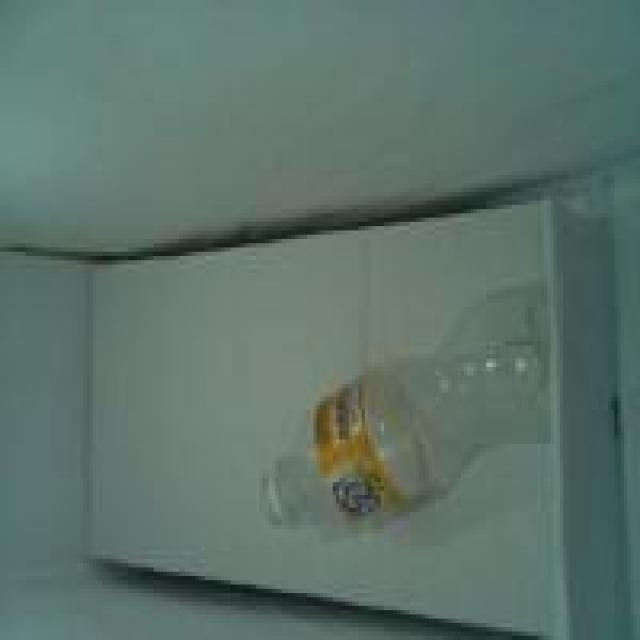bottle: (237, 309, 586, 543)
